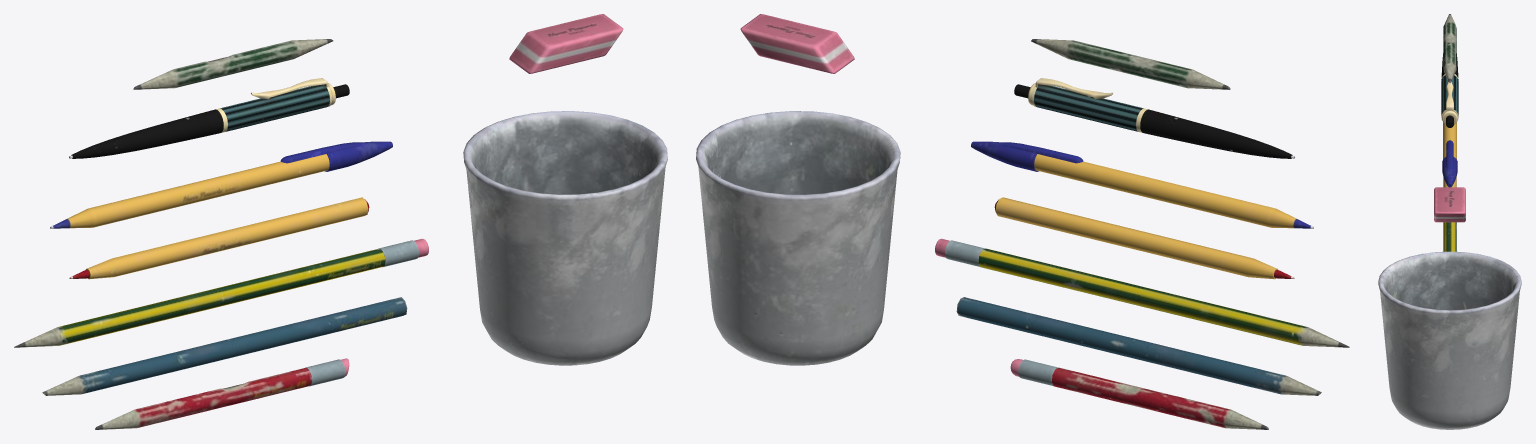
Rendered from stationery_supplies.glb.
3 views of the same model, side by side, from view 1: azimuth 30°, elevation 25°; view 2: azimuth 150°, elevation 25°; view 3: azimuth 270°, elevation 25° (orthographic). The views are drawn at different scales.
Visible parts, largest first — view 1: stationery_supplies_pencilcup, stationery_supplies_pencil_new_a, stationery_supplies_pencil_new_b, stationery_supplies_pen_blue, stationery_supplies_pen_fancy, stationery_supplies_pen_red, stationery_supplies_pencil_used, stationery_supplies_eraser, stationery_supplies_pencil_old; view 2: stationery_supplies_pencilcup, stationery_supplies_pencil_new_a, stationery_supplies_pencil_new_b, stationery_supplies_pen_blue, stationery_supplies_pen_fancy, stationery_supplies_pen_red, stationery_supplies_pencil_used, stationery_supplies_eraser, stationery_supplies_pencil_old; view 3: stationery_supplies_pencilcup, stationery_supplies_eraser, stationery_supplies_pen_fancy, stationery_supplies_pen_blue, stationery_supplies_pencil_old, stationery_supplies_pencil_new_a.
Part boxes in pixels (bbox=[...]): stationery_supplies_pencilcup: bbox=[463, 111, 667, 365]; stationery_supplies_pencil_new_a: bbox=[14, 238, 428, 347]; stationery_supplies_pencil_new_b: bbox=[42, 297, 407, 395]; stationery_supplies_pen_blue: bbox=[50, 141, 392, 228]; stationery_supplies_pen_fancy: bbox=[69, 78, 349, 158]; stationery_supplies_pen_red: bbox=[69, 197, 369, 279]; stationery_supplies_pencil_used: bbox=[95, 358, 349, 429]; stationery_supplies_eraser: bbox=[509, 14, 623, 73]; stationery_supplies_pencil_old: bbox=[133, 39, 333, 89]; stationery_supplies_pencilcup: bbox=[696, 111, 900, 365]; stationery_supplies_pencil_new_a: bbox=[935, 238, 1349, 347]; stationery_supplies_pencil_new_b: bbox=[956, 297, 1321, 395]; stationery_supplies_pen_blue: bbox=[971, 141, 1313, 228]; stationery_supplies_pen_fancy: bbox=[1014, 78, 1294, 158]; stationery_supplies_pen_red: bbox=[994, 197, 1294, 279]; stationery_supplies_pencil_used: bbox=[1010, 359, 1268, 429]; stationery_supplies_eraser: bbox=[740, 14, 854, 73]; stationery_supplies_pencil_old: bbox=[1031, 39, 1230, 89]; stationery_supplies_pencilcup: bbox=[1378, 251, 1521, 429]; stationery_supplies_eraser: bbox=[1434, 187, 1465, 222]; stationery_supplies_pen_fancy: bbox=[1441, 53, 1458, 127]; stationery_supplies_pen_blue: bbox=[1442, 122, 1457, 187]; stationery_supplies_pencil_old: bbox=[1443, 14, 1456, 82]; stationery_supplies_pencil_new_a: bbox=[1443, 222, 1456, 251].
Size of the model in its own units: 0.3019 by 0.1643 by 0.0837.
1 material, 1 textured.
